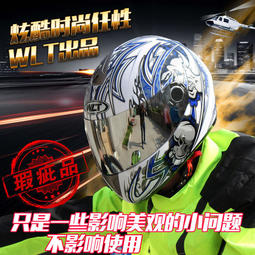helmet: (89, 43, 221, 187)
